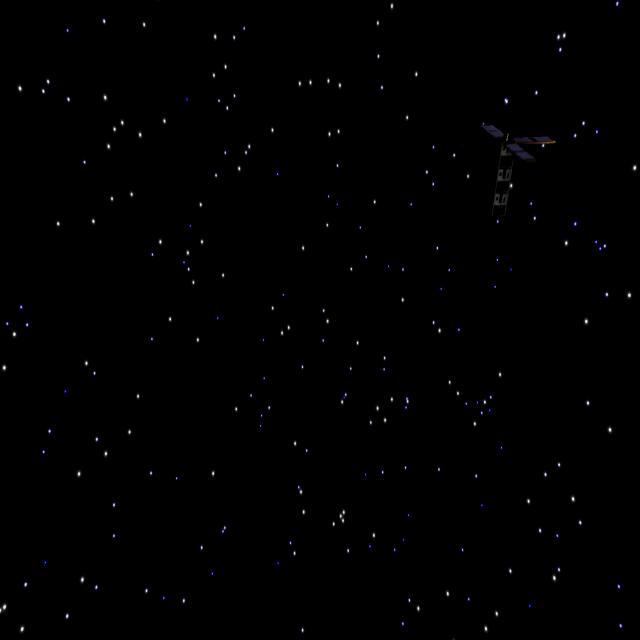medium_debris: (466, 103, 556, 215)
